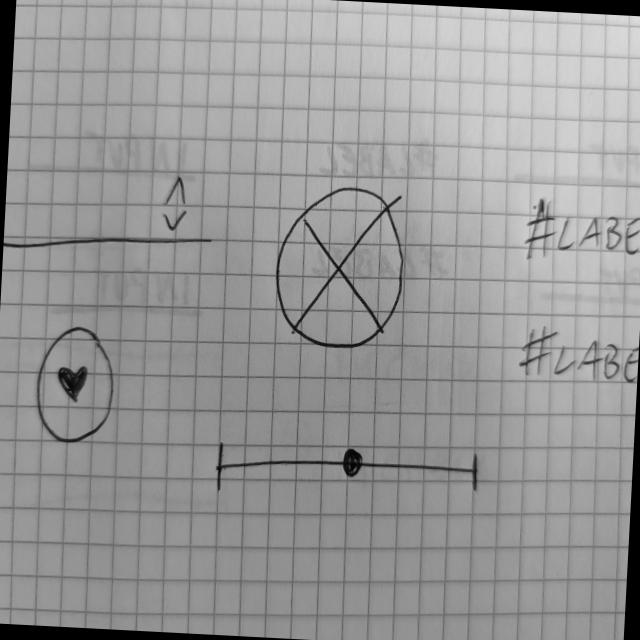icon-button: (32, 323, 121, 449)
image: (272, 182, 411, 356)
label: (520, 190, 640, 271)
number-input: (5, 161, 219, 262)
slider: (211, 436, 486, 506)
